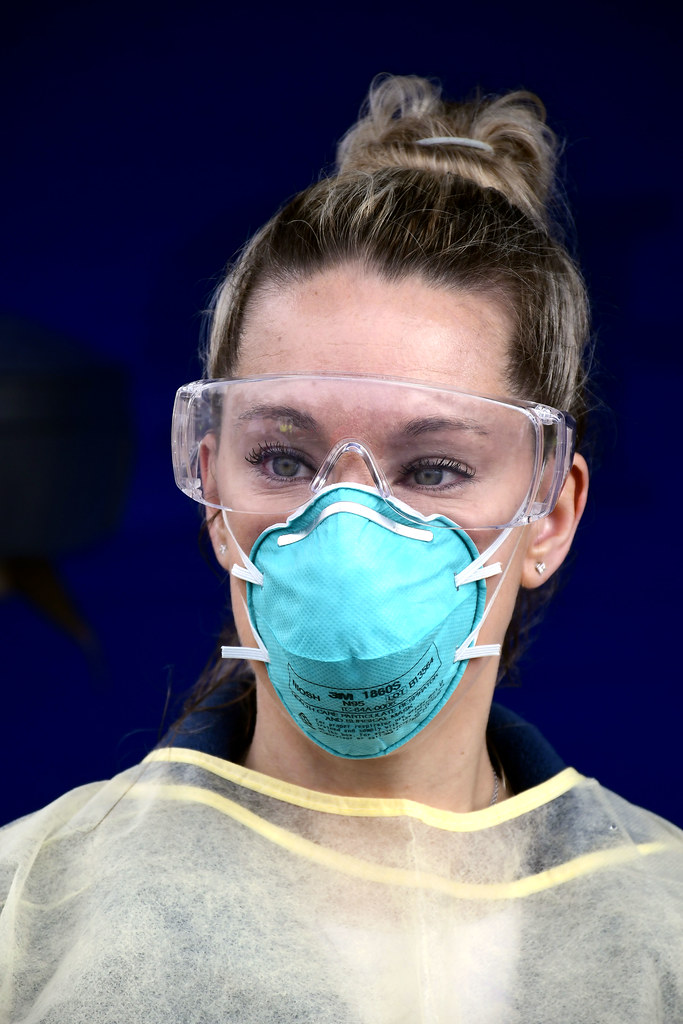n95: (226, 483, 501, 773)
